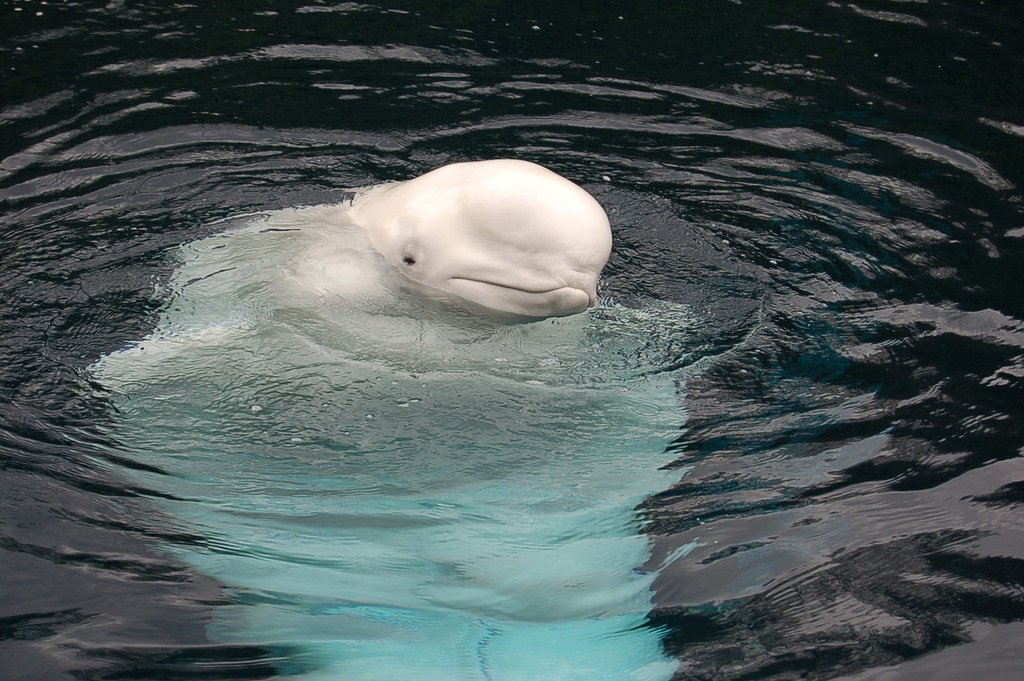person: (7, 155, 616, 353)
